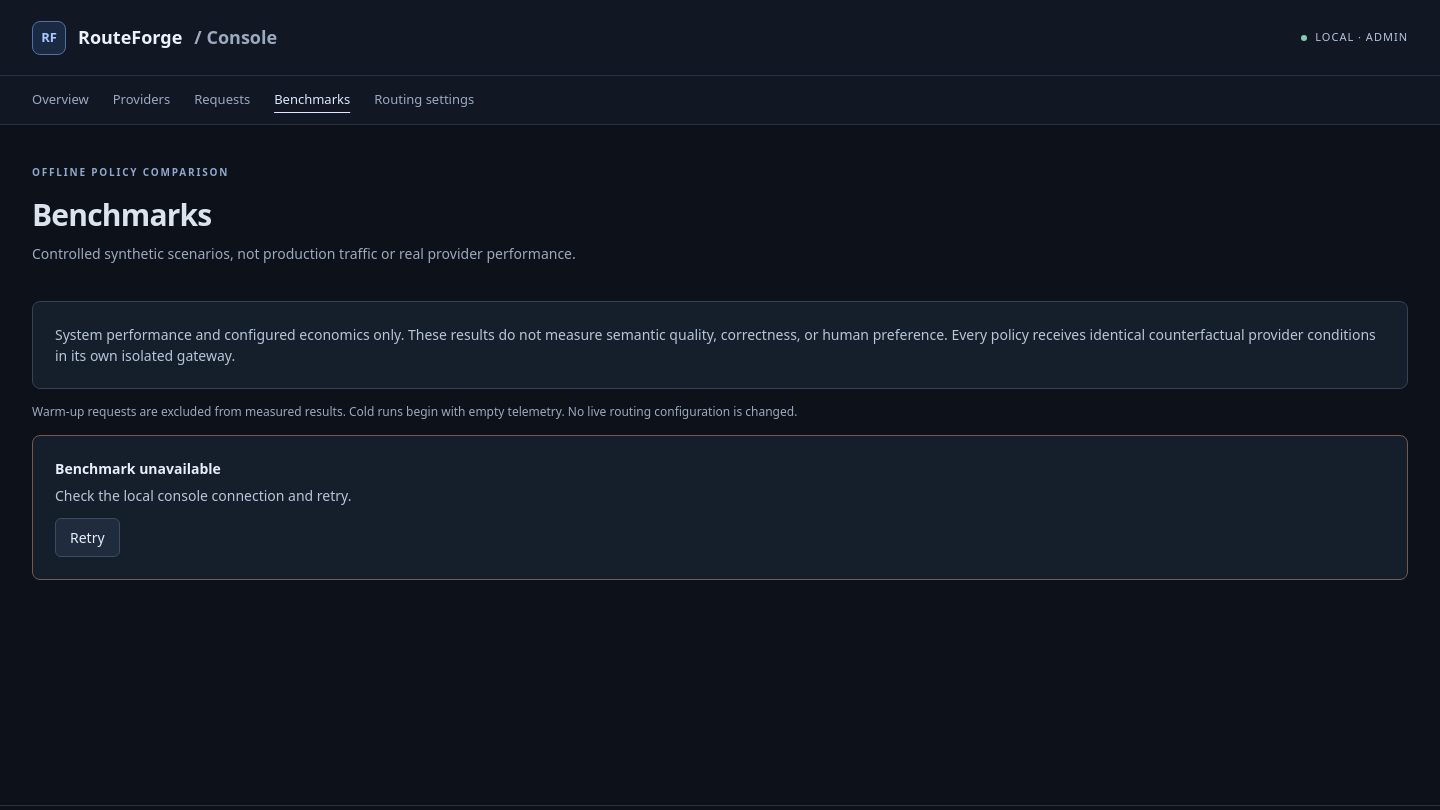
Test: retries catalog failures and handles an empty catalog
Expected: the message "Benchmark unavailable Check the local console connection and retry. Retry" is shown, x1=32 y1=434 x2=1408 y2=580
Click the button "Retry" at coordinates (87, 537), box x1=55 y1=518 x2=120 y2=556
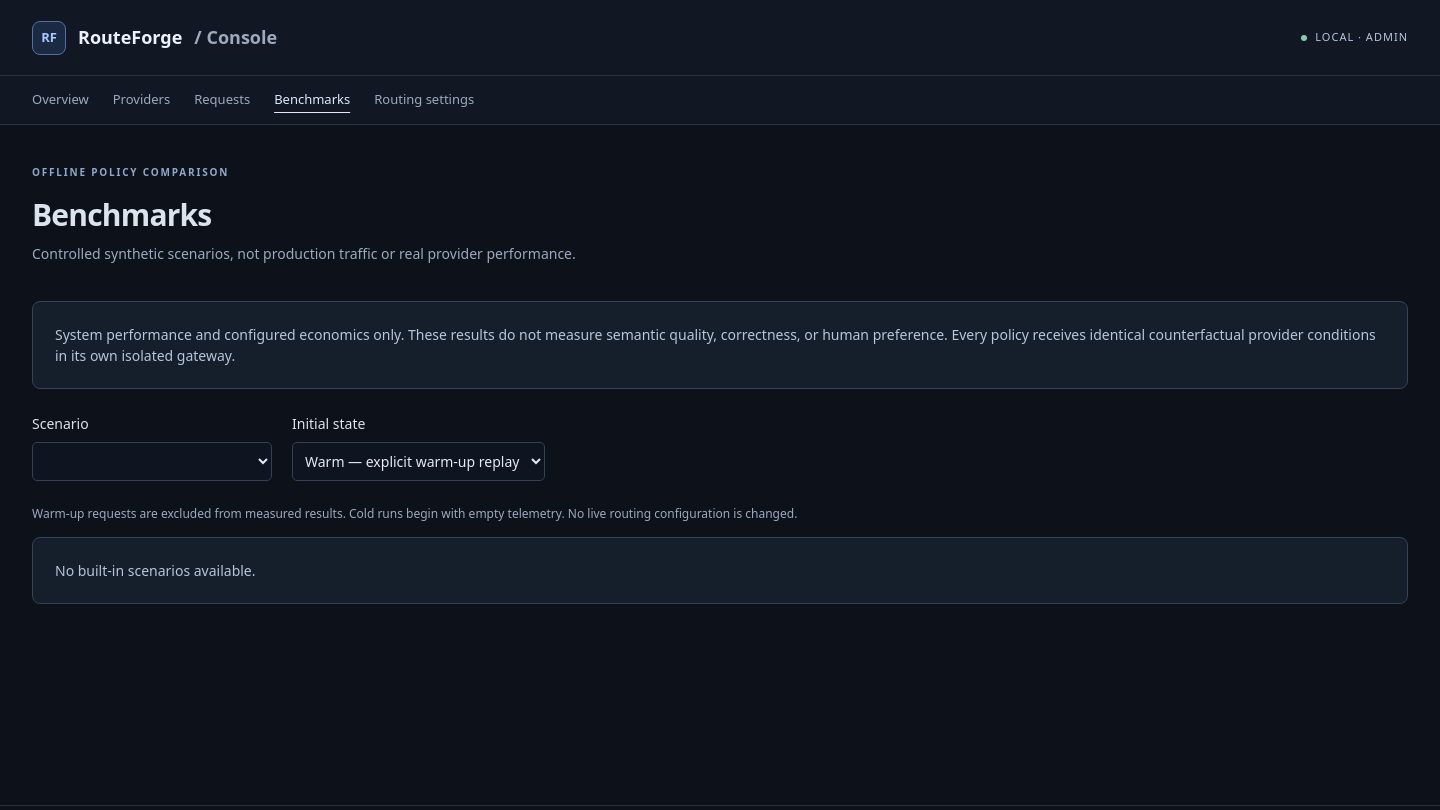
Now the text "No built-in scenarios available." is shown, box x1=32 y1=536 x2=1408 y2=604
